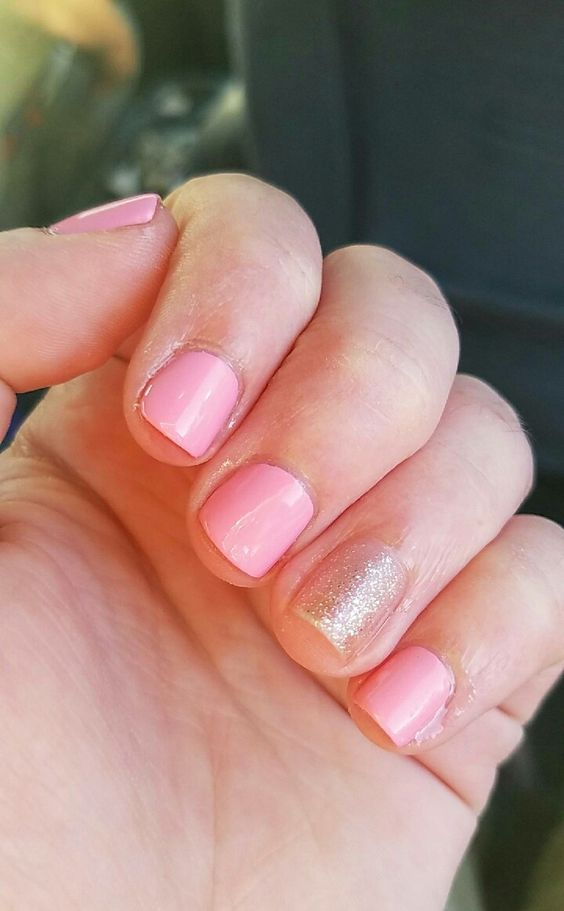nails: (269, 535, 411, 668), (179, 455, 324, 585), (123, 331, 250, 472), (344, 642, 469, 754), (38, 186, 167, 246)
